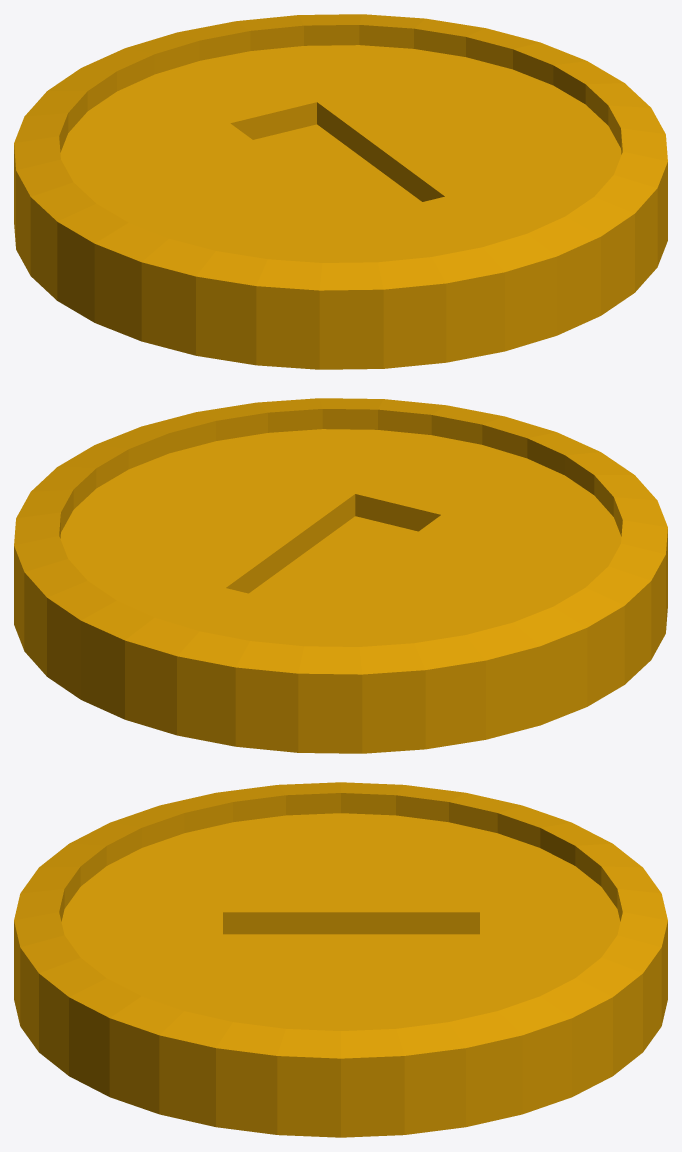
The model's file is coin OG.fbx.
The picture shows the model from 3 angles, top to bottom: view 1: azimuth 30°, elevation 25°; view 2: azimuth 150°, elevation 25°; view 3: azimuth 270°, elevation 25°; orthographic projection.
Visible parts, largest first — view 1: Cylinder; view 2: Cylinder; view 3: Cylinder.
Part boxes in pixels (bbox=[...]): Cylinder: bbox=[14, 14, 667, 369]; Cylinder: bbox=[14, 398, 667, 753]; Cylinder: bbox=[14, 782, 667, 1137].
Size of the model in its own units: 200 by 33.17 by 200.
